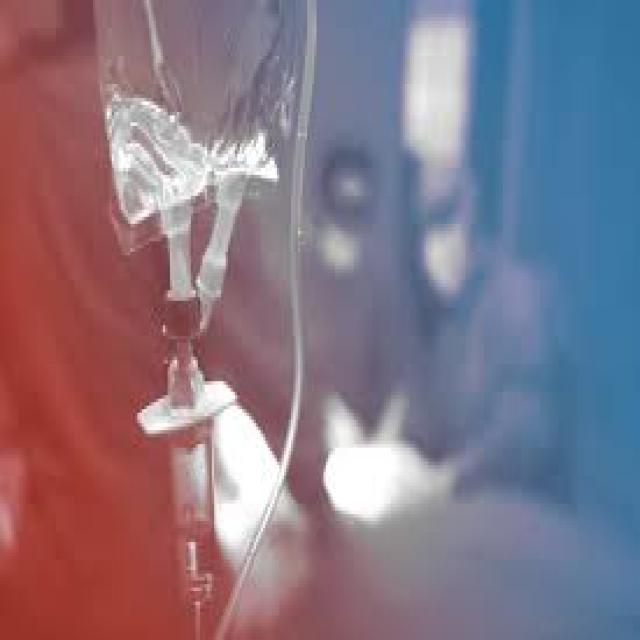iv_fluids: (93, 33, 319, 622)
